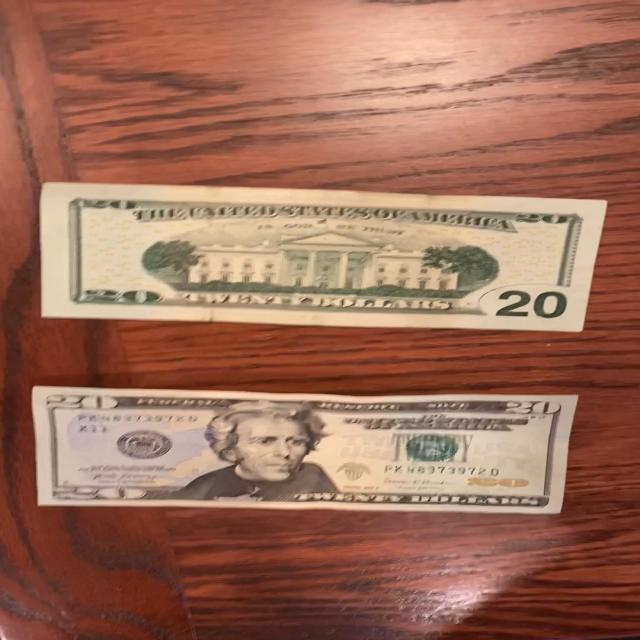20-Back: (40, 178, 617, 344)
20-Front: (27, 371, 604, 526)
